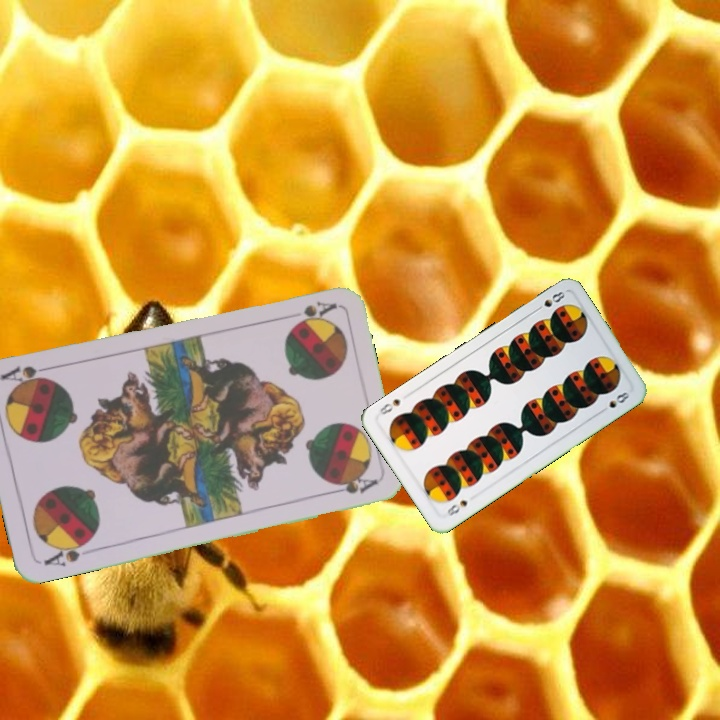S8: (530, 287, 568, 315), (443, 496, 470, 519)
SA: (39, 535, 94, 569), (280, 297, 339, 327)
